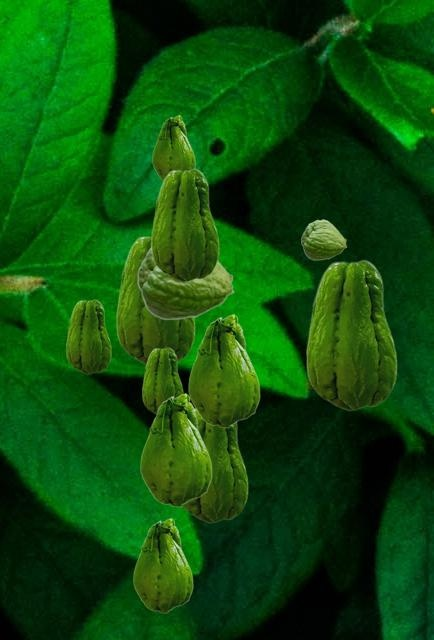sayote: (306, 259, 396, 410), (116, 235, 194, 364), (188, 314, 259, 427), (140, 393, 211, 506), (151, 168, 218, 281), (182, 411, 247, 522), (137, 247, 234, 319), (133, 518, 192, 612), (66, 299, 110, 373), (152, 115, 194, 180), (142, 347, 182, 414), (301, 219, 346, 259)
